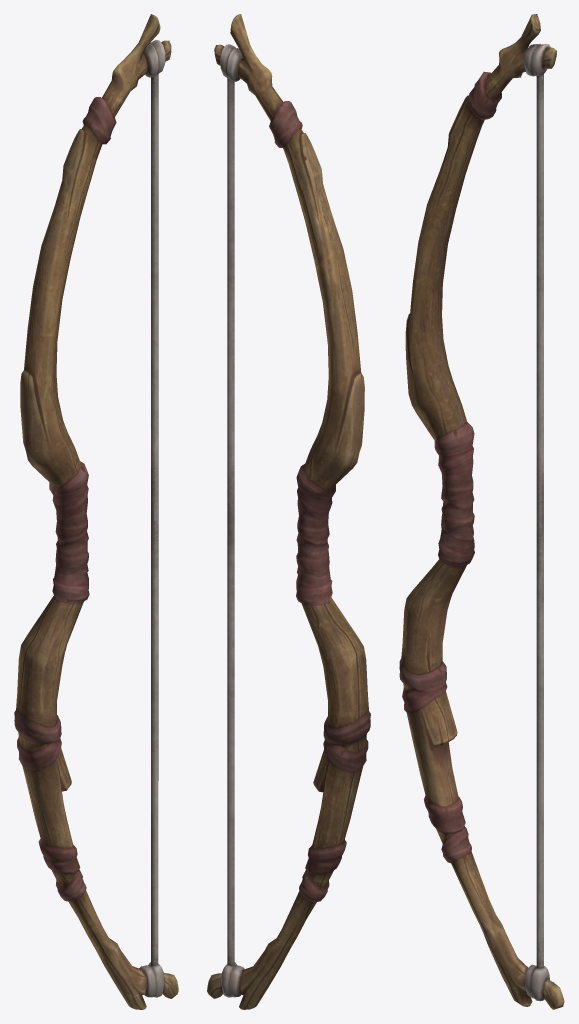
3 renders of one model, left to right at view 1: azimuth 30°, elevation 25°; view 2: azimuth 150°, elevation 25°; view 3: azimuth 330°, elevation 25°, orthographic.
Parts seen in each view (by area): view 1: SM_Longbow_AshWood_2H_01_LOD0; view 2: SM_Longbow_AshWood_2H_01_LOD0; view 3: SM_Longbow_AshWood_2H_01_LOD0.
Boxes of the visible parts, x1,y1,x2,y2 form: SM_Longbow_AshWood_2H_01_LOD0: (14, 14, 178, 1009); SM_Longbow_AshWood_2H_01_LOD0: (207, 14, 370, 1009); SM_Longbow_AshWood_2H_01_LOD0: (399, 14, 564, 1009).
Bounding box in the file's own units: 0.2968 × 1.77 × 0.0844.
Materials: 1 (1 with a texture image).
